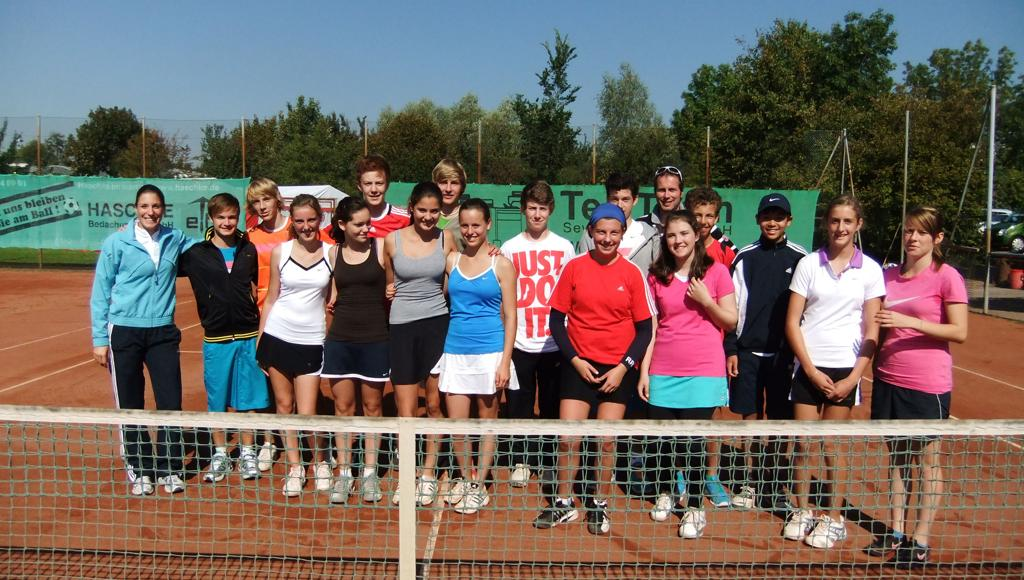face: (904, 215, 932, 256), (829, 206, 856, 247), (459, 209, 486, 247), (666, 221, 694, 257), (593, 218, 620, 254), (293, 205, 319, 241), (655, 173, 680, 210), (759, 204, 785, 239), (607, 185, 633, 219), (414, 196, 439, 231), (346, 209, 371, 243), (138, 193, 161, 229), (361, 171, 385, 205), (693, 200, 716, 235), (213, 204, 237, 235), (437, 172, 461, 202), (525, 199, 547, 231), (251, 191, 275, 220)
